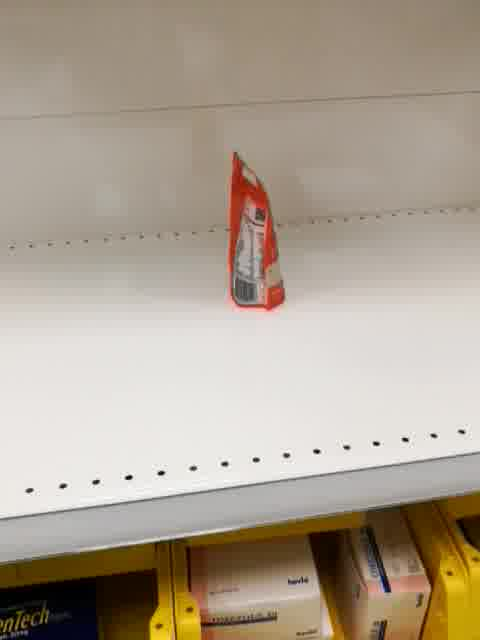whitechia: (222, 148, 292, 313)
